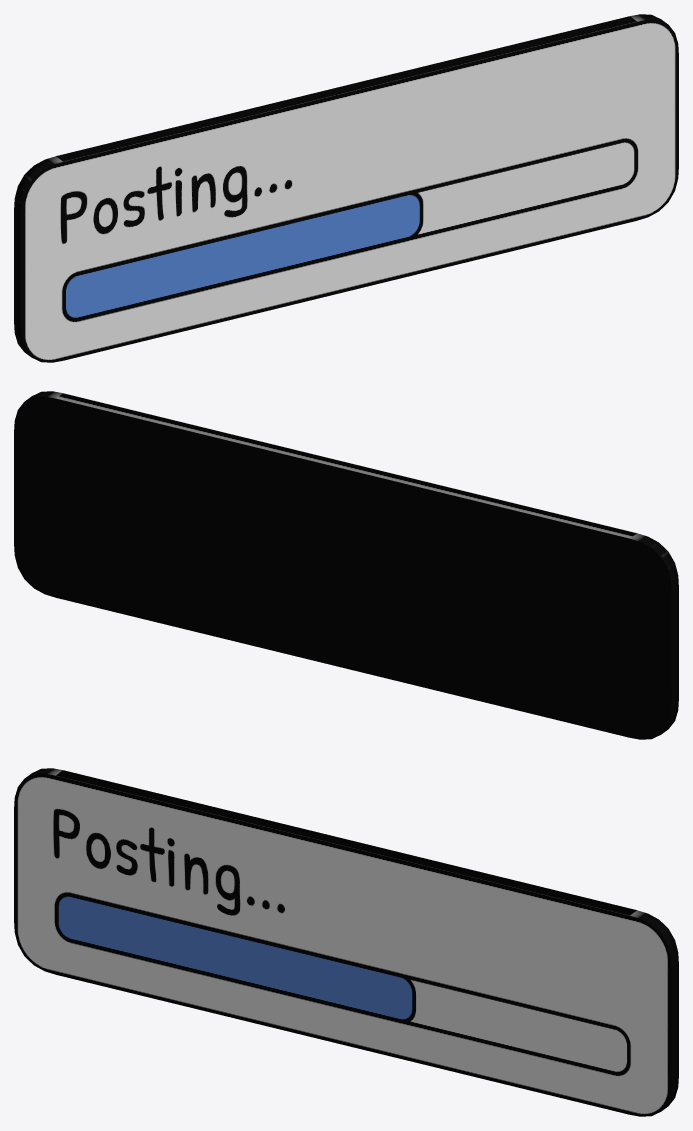
File: Ep5_Notification-C.fbx
3 views of the same model, one above another, from view 1: azimuth 30°, elevation 25°; view 2: azimuth 150°, elevation 25°; view 3: azimuth 330°, elevation 25° (orthographic).
Parts seen in each view (by area): view 1: Notifications-C; view 2: Notifications-C; view 3: Notifications-C.
Boxes of the visible parts, box(x1,y1,x2,y2) form: Notifications-C: box(14, 14, 678, 362); Notifications-C: box(14, 391, 678, 739); Notifications-C: box(14, 768, 678, 1116).
Bounding box in the file's own units: 1167 × 338 × 22.62.
